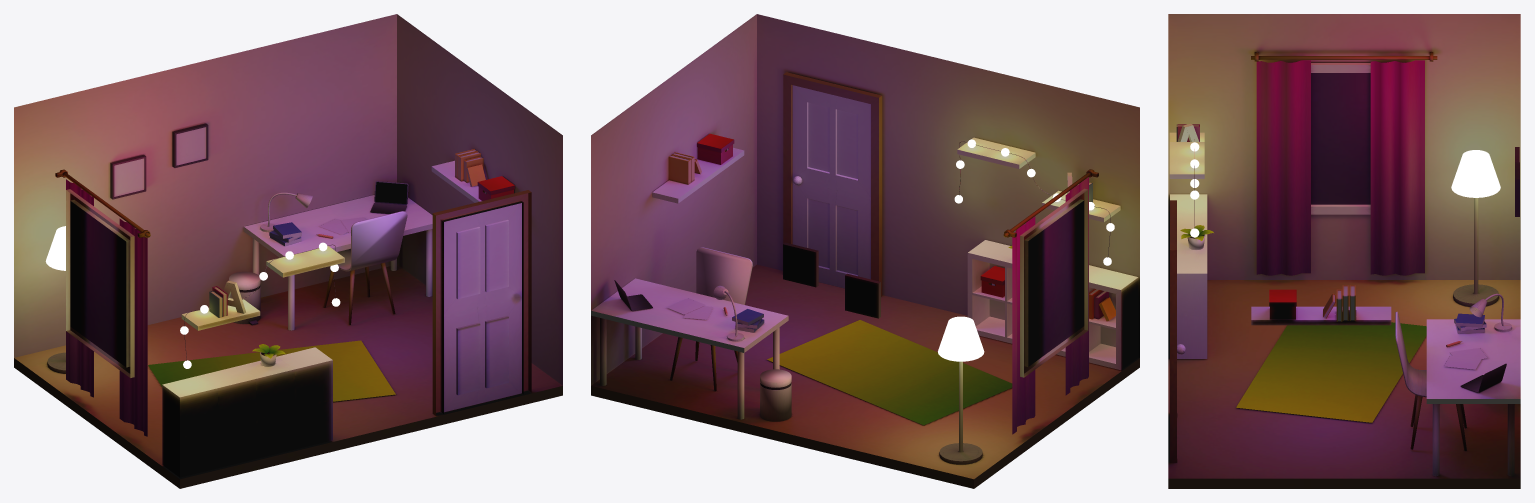
Rendered from baked_room.glb.
The picture shows the model from 3 angles, left to right: view 1: azimuth 30°, elevation 25°; view 2: azimuth 150°, elevation 25°; view 3: azimuth 270°, elevation 25°; orthographic projection. The views are drawn at different scales.
Parts seen in each view (by area): view 1: Walls, Floor, Desk, Door, Window void, Door frame, Curtain left, Carpet, Chair, Leg back left.003, Picture.001, Picture (+6 smaller); view 2: Walls, Floor, Desk, Door, Carpet, Window void, Door frame, Curtain left, Chair, Top, Bin, Leg back left.003 (+7 smaller); view 3: Walls, Floor, Curtain left, Desk, Carpet, Window void, Door frame, Top, Standing lamp, Leg back left.003, Chair, Box.001 (+6 smaller).
Boxes of the visible parts, left/top/right/bottom form: Walls: left=14, top=14, right=562, bottom=385; Floor: left=14, top=264, right=562, bottom=488; Desk: left=66, top=160, right=481, bottom=477; Door: left=444, top=203, right=521, bottom=412; Window void: left=70, top=201, right=126, bottom=366; Door frame: left=432, top=190, right=531, bottom=415; Curtain left: left=66, top=179, right=147, bottom=436; Carpet: left=148, top=340, right=395, bottom=401; Chair: left=337, top=211, right=407, bottom=271; Leg back left.003: left=252, top=229, right=432, bottom=330; Picture.001: left=114, top=158, right=144, bottom=196; Picture: left=176, top=127, right=206, bottom=165; Walls: left=591, top=14, right=1139, bottom=385; Floor: left=591, top=264, right=1139, bottom=488; Desk: left=591, top=137, right=1138, bottom=377; Door: left=792, top=85, right=870, bottom=288; Carpet: left=767, top=320, right=1012, bottom=425; Window void: left=1028, top=200, right=1084, bottom=366; Door frame: left=783, top=72, right=882, bottom=296; Curtain left: left=1012, top=177, right=1088, bottom=434; Chair: left=696, top=247, right=752, bottom=304; Top: left=938, top=316, right=984, bottom=361; Bin: left=760, top=369, right=791, bottom=421; Leg back left.003: left=600, top=318, right=779, bottom=419; Walls: left=1168, top=14, right=1520, bottom=279; Floor: left=1168, top=280, right=1520, bottom=488; Curtain left: left=1256, top=60, right=1424, bottom=275; Desk: left=1169, top=63, right=1520, bottom=403; Carpet: left=1236, top=322, right=1426, bottom=422; Window void: left=1311, top=73, right=1370, bottom=204; Door frame: left=1170, top=200, right=1176, bottom=462; Top: left=1451, top=150, right=1500, bottom=197; Standing lamp: left=1453, top=198, right=1498, bottom=306; Leg back left.003: left=1432, top=404, right=1514, bottom=476; Chair: left=1395, top=311, right=1426, bottom=397; Box.001: left=1269, top=289, right=1296, bottom=319.
Bounding box in the file's own units: 4.01 × 2.6 × 3.
Materials: 4 (2 with a texture image).
